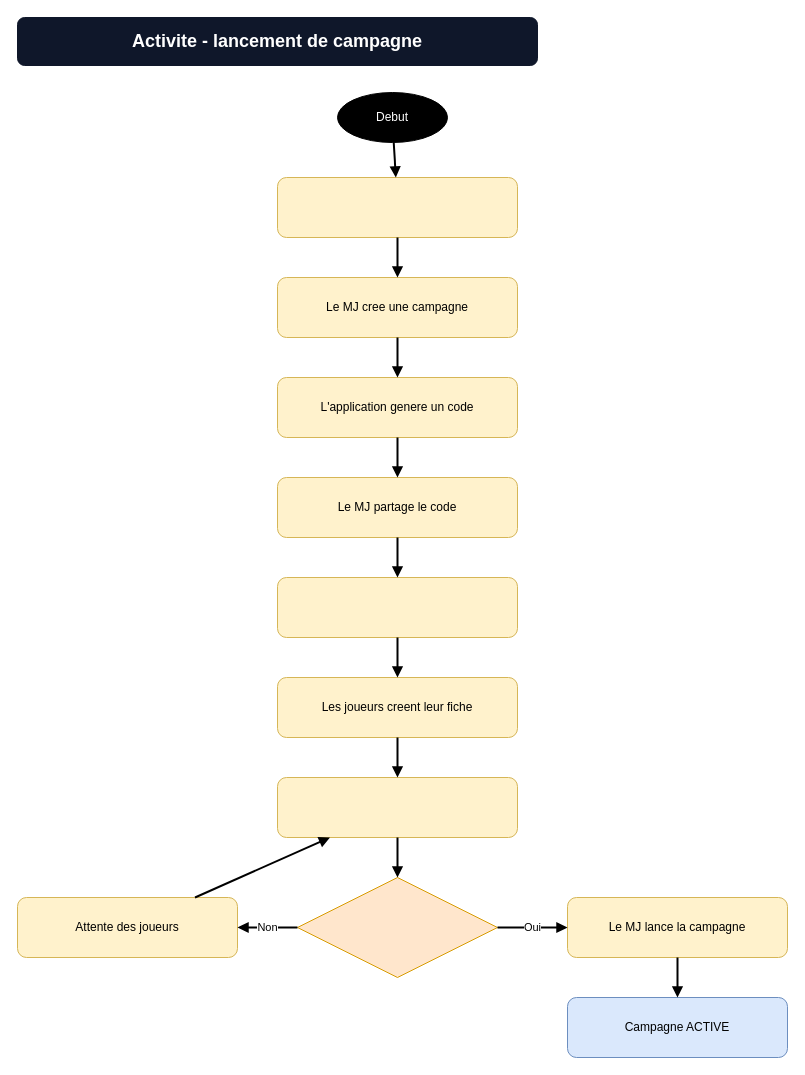
This 805x1075 diagram has some shape labels left out. Here are the shapes that lost their labels. From the top down, the box of each, then its label:
(276, 176, 518, 238): Le MJ se connecte
(276, 576, 518, 638): Les joueurs rejoignent
(276, 776, 518, 838): Les joueurs se declarent prets
(296, 876, 498, 978): Tous les joueurs sont prets ?
